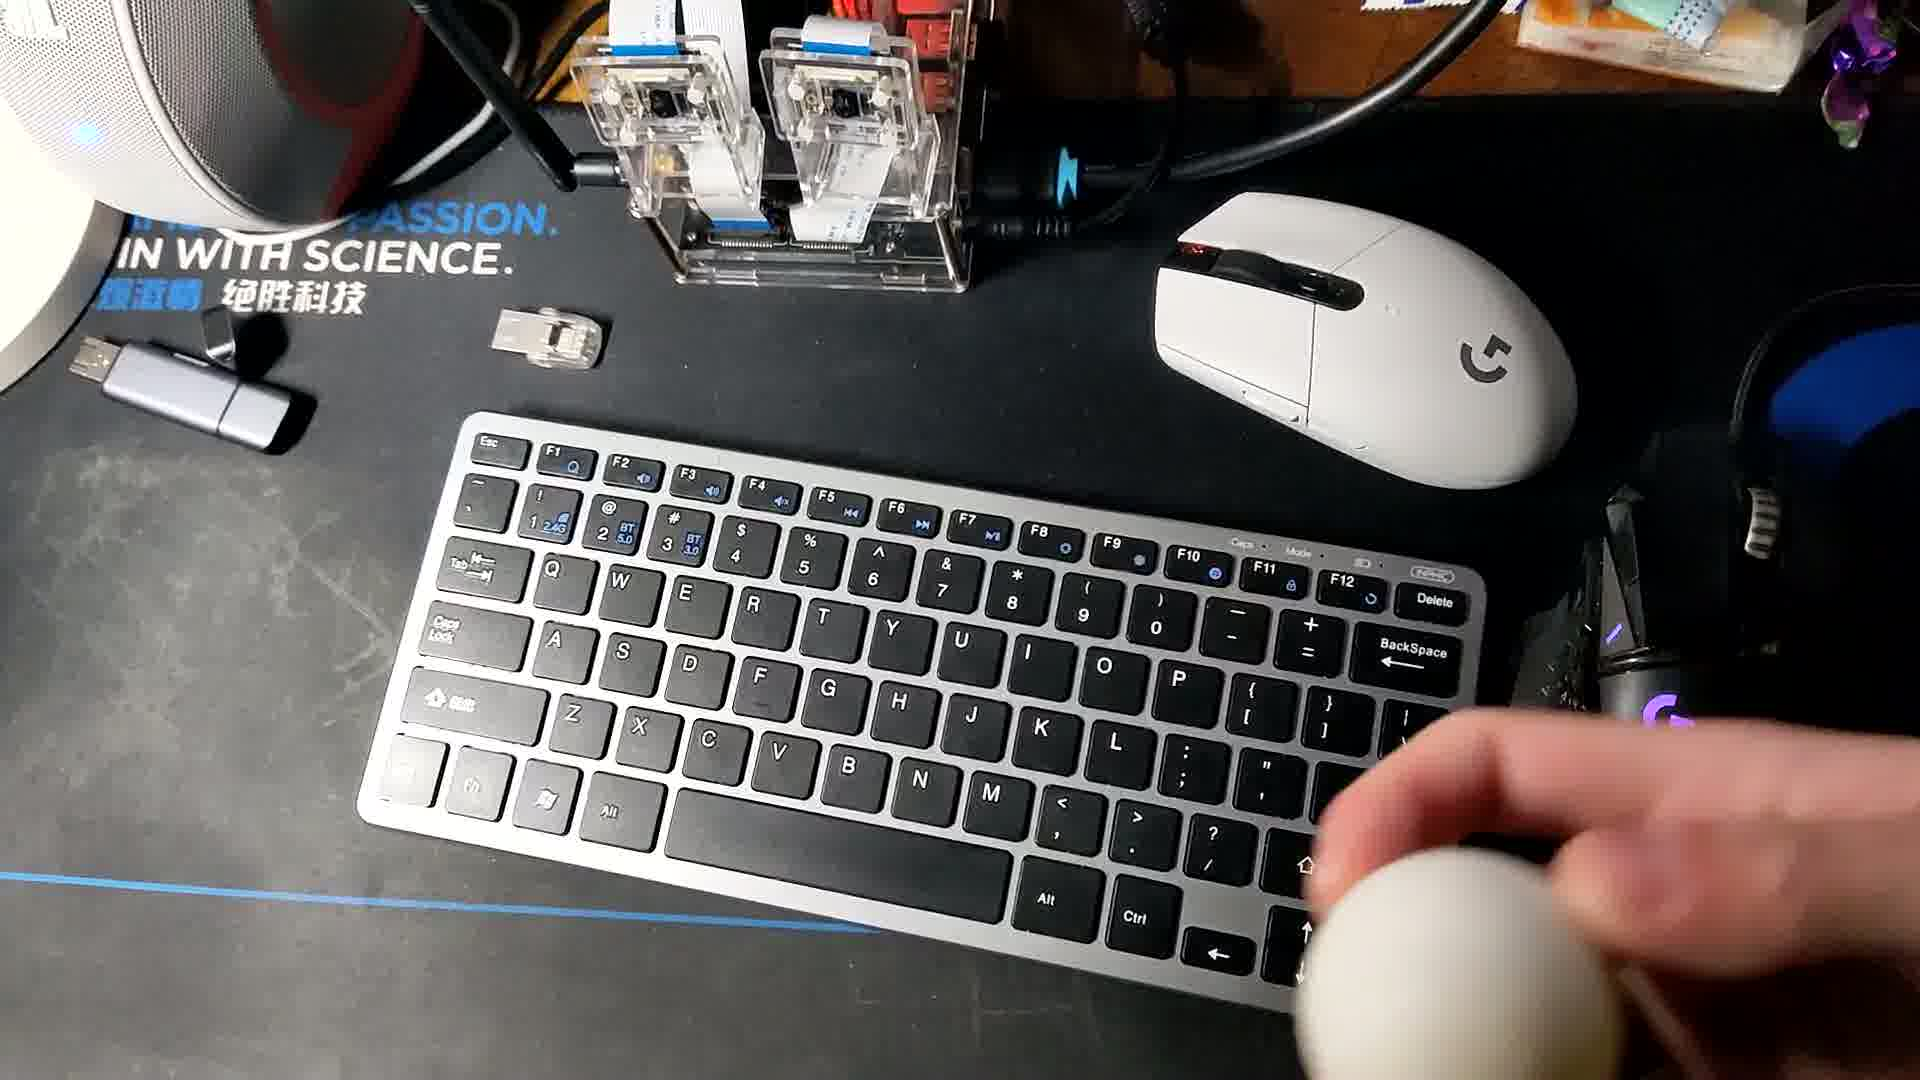Ball: (1294, 844, 1615, 1080)
